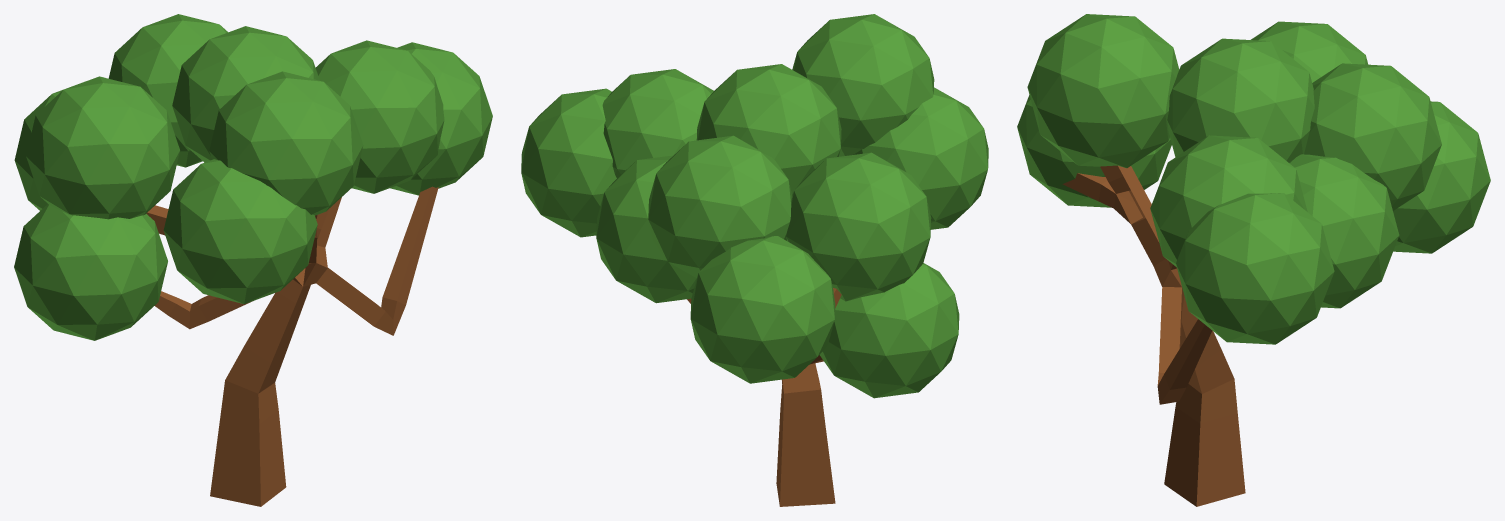
Rendered from NormalTree.fbx.
3 views of the same model, side by side, from view 1: azimuth 30°, elevation 25°; view 2: azimuth 150°, elevation 25°; view 3: azimuth 270°, elevation 25° (orthographic). The views are drawn at different scales.
Parts seen in each view (by area): view 1: Cube.009; view 2: Cube.009; view 3: Cube.009.
Part boxes in pixels (left/top/right/bottom): Cube.009: left=14, top=14, right=492, bottom=506; Cube.009: left=521, top=14, right=988, bottom=506; Cube.009: left=1017, top=14, right=1490, bottom=506.
Size of the model in its own units: 5040 by 4907 by 4518.
